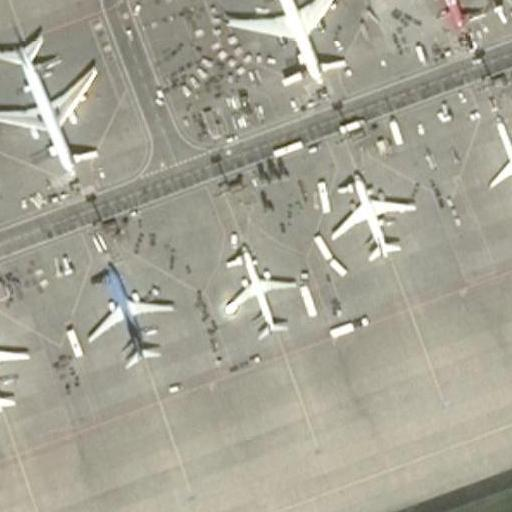Aircraft: (0, 32, 97, 181), (224, 0, 352, 90), (89, 259, 174, 372), (323, 174, 413, 268), (216, 239, 302, 337), (0, 316, 30, 418), (480, 116, 512, 210), (390, 0, 481, 30)
